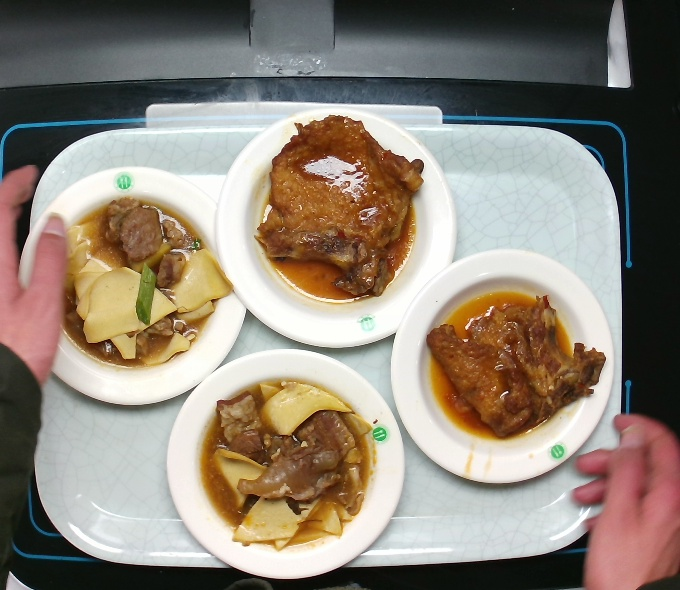wcq-DaPai: (249, 109, 428, 309), (423, 284, 611, 447)
wcq-QianZhangNiuRou: (40, 189, 238, 379), (191, 371, 382, 559)
